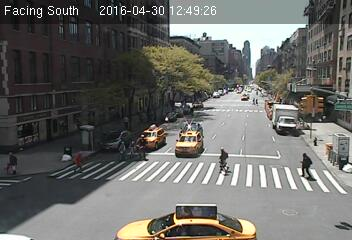neg: (91, 185, 125, 230), (22, 82, 53, 123), (42, 156, 70, 193), (285, 200, 310, 234), (66, 54, 89, 85), (126, 46, 148, 76), (293, 49, 314, 78), (248, 88, 269, 116), (111, 137, 132, 164), (238, 195, 258, 222), (216, 89, 236, 115), (227, 44, 246, 70), (180, 127, 198, 151), (158, 188, 176, 210), (134, 139, 148, 158), (309, 97, 323, 116)
pos: (296, 150, 319, 181), (211, 145, 233, 174), (5, 151, 22, 173), (72, 151, 88, 172)
